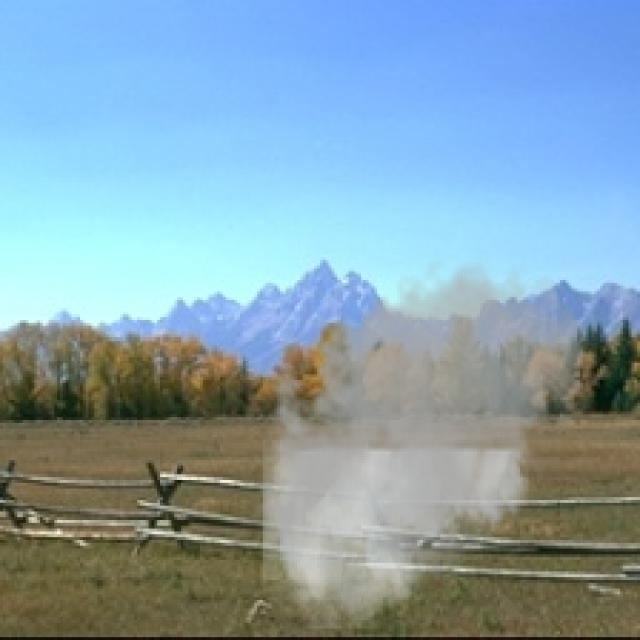smoke: (249, 248, 594, 628)
